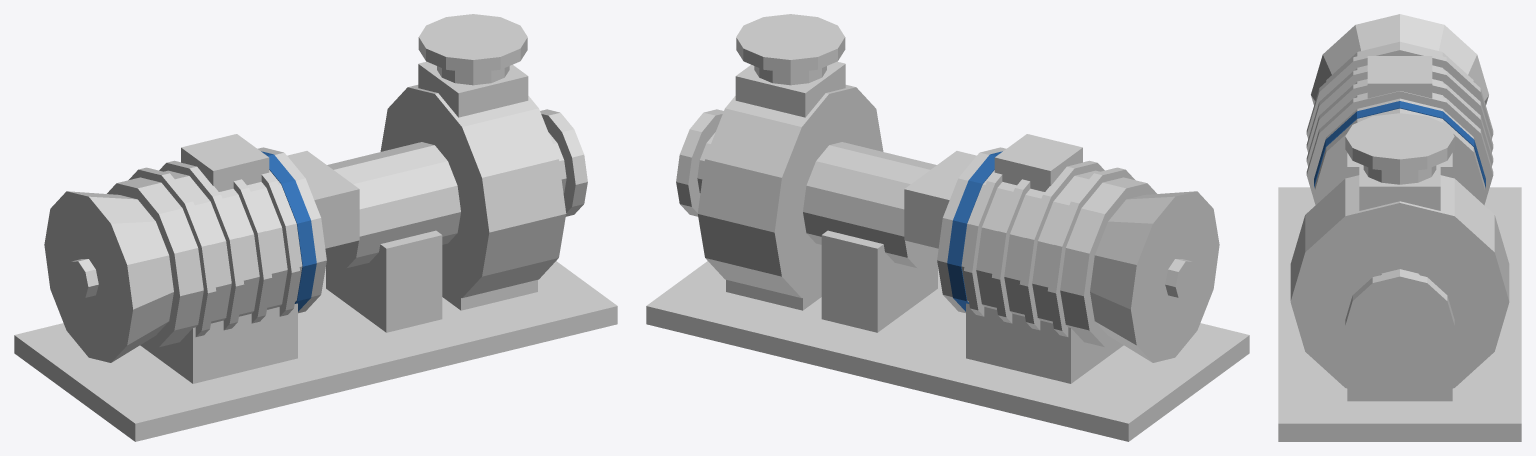
The model's file is pump.glb.
The picture shows the model from 3 angles, left to right: view 1: azimuth 30°, elevation 25°; view 2: azimuth 150°, elevation 25°; view 3: azimuth 270°, elevation 25°; orthographic projection.
Parts seen in each view (by area): view 1: base, volute, motor.cowl, motor, frame, frame.pedestal, motor.feet, discharge.flange, coupling.guard, motor.terminal, volute.throat, discharge (+8 smaller); view 2: base, volute, motor.cowl, motor, frame, frame.pedestal, motor.feet, discharge.flange, coupling.guard, motor.terminal, volute.throat, discharge (+8 smaller); view 3: volute, base, suction.flange, motor.cowl, motor, suction, discharge.flange, motor.fin.0, discharge, motor.terminal, volute.foot, volute.throat (+5 smaller).
Boxes of the visible parts, left/top/right/bottom form: base: left=14, top=261, right=617, bottom=441; volute: left=380, top=85, right=566, bottom=297; motor.cowl: left=44, top=191, right=173, bottom=362; motor: left=107, top=147, right=326, bottom=347; frame: left=325, top=142, right=460, bottom=268; frame.pedestal: left=326, top=230, right=442, bottom=332; motor.feet: left=140, top=303, right=297, bottom=383; discharge.flange: left=418, top=14, right=527, bottom=72; coupling.guard: left=287, top=151, right=359, bottom=248; motor.terminal: left=181, top=134, right=269, bottom=191; volute.throat: left=418, top=61, right=528, bottom=117; discharge: left=437, top=21, right=509, bottom=85; base: left=646, top=261, right=1249, bottom=441; volute: left=697, top=85, right=883, bottom=297; motor.cowl: left=1090, top=191, right=1219, bottom=362; motor: left=937, top=147, right=1156, bottom=347; frame: left=803, top=142, right=938, bottom=268; frame.pedestal: left=821, top=230, right=937, bottom=332; motor.feet: left=966, top=303, right=1123, bottom=383; discharge.flange: left=736, top=14, right=845, bottom=72; coupling.guard: left=904, top=151, right=976, bottom=248; motor.terminal: left=994, top=134, right=1082, bottom=191; volute.throat: left=735, top=61, right=845, bottom=117; discharge: left=754, top=21, right=826, bottom=85; volute: left=1290, top=175, right=1509, bottom=401; base: left=1278, top=187, right=1521, bottom=441; suction.flange: left=1345, top=270, right=1454, bottom=375; motor.cowl: left=1311, top=14, right=1488, bottom=104; motor: left=1315, top=41, right=1484, bottom=202; suction: left=1363, top=269, right=1436, bottom=358; discharge.flange: left=1345, top=113, right=1454, bottom=172; motor.fin.0: left=1306, top=91, right=1493, bottom=205; discharge: left=1363, top=121, right=1436, bottom=184; motor.terminal: left=1367, top=56, right=1432, bottom=98; volute.foot: left=1347, top=361, right=1452, bottom=401; volute.throat: left=1359, top=163, right=1440, bottom=210.
Bounding box in the file's own units: 1.39 × 0.72 × 0.6.
